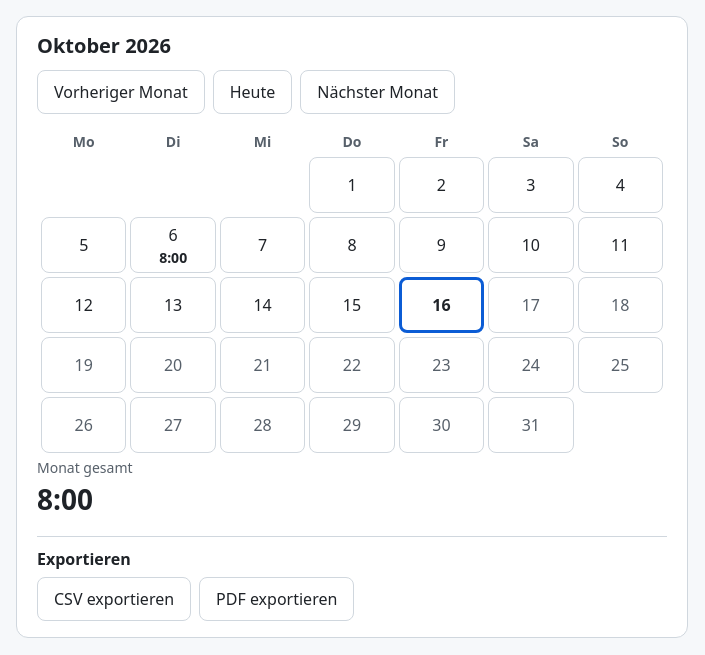
Test case: CalendarView export › renders the PDF once from the content model and blocks a second click while busy
Expected: the button "CSV exportieren" is enabled, [37, 577, 191, 621]
Click the button "PDF exportieren": (277, 599) [199, 577, 354, 621]
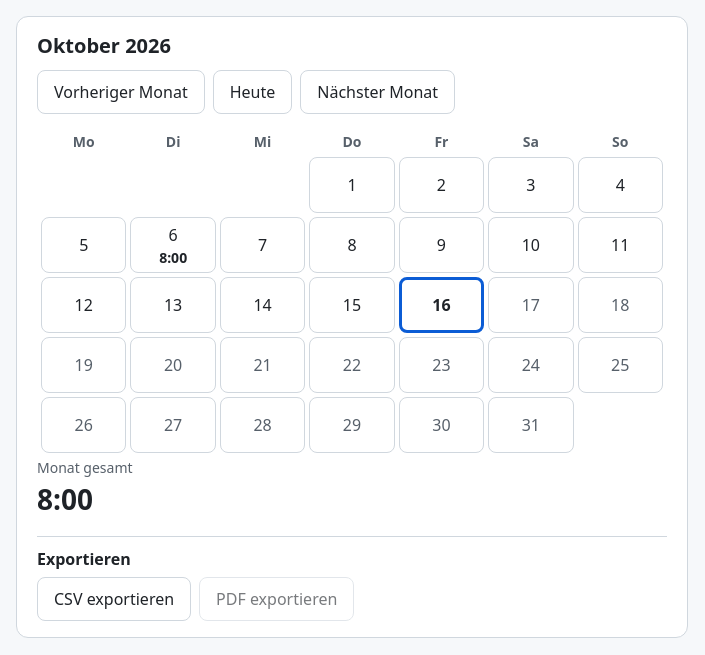
Expected: the button "CSV exportieren" is enabled, [37, 577, 191, 621]
Expected: the button "PDF exportieren" is disabled
Click the button "PDF exportieren": (277, 599) [199, 577, 354, 621]
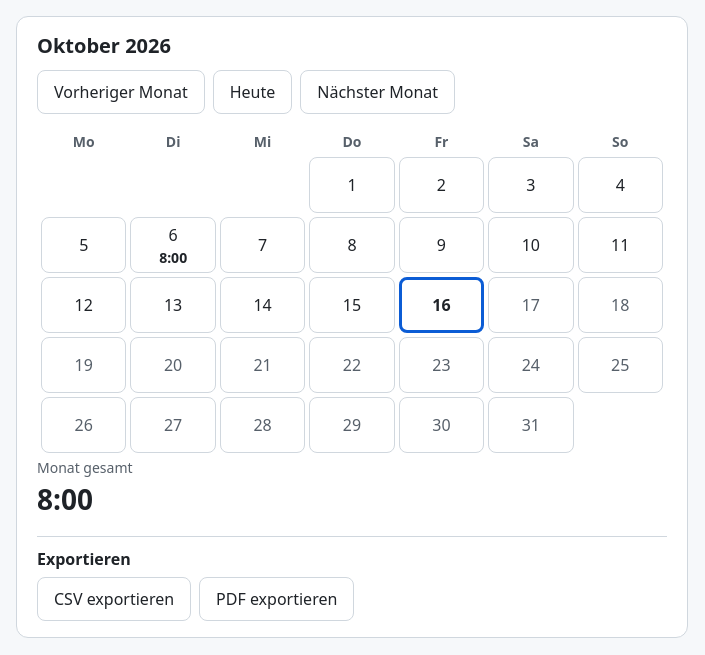
Expected: the button "PDF exportieren" is enabled, [199, 577, 354, 621]
